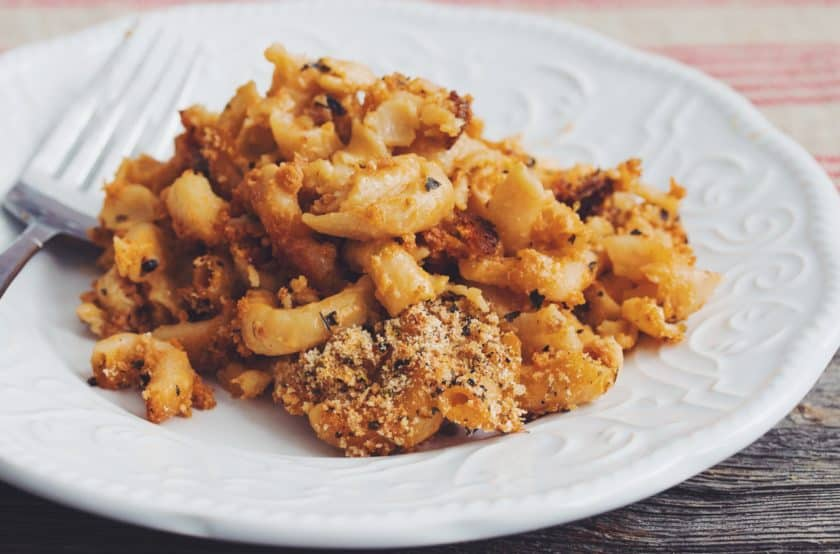cheese: (270, 150, 526, 316)
